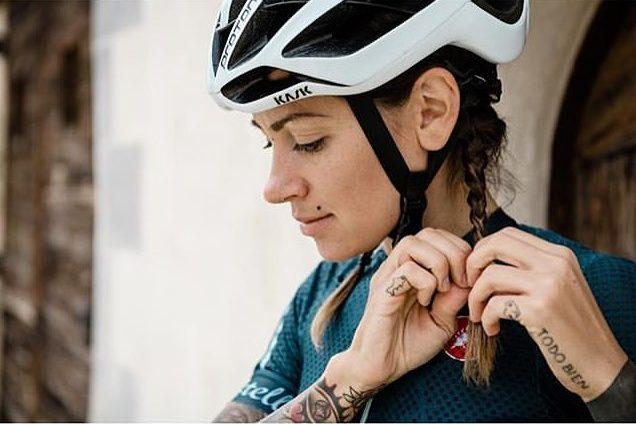helmet: (218, 0, 538, 188)
